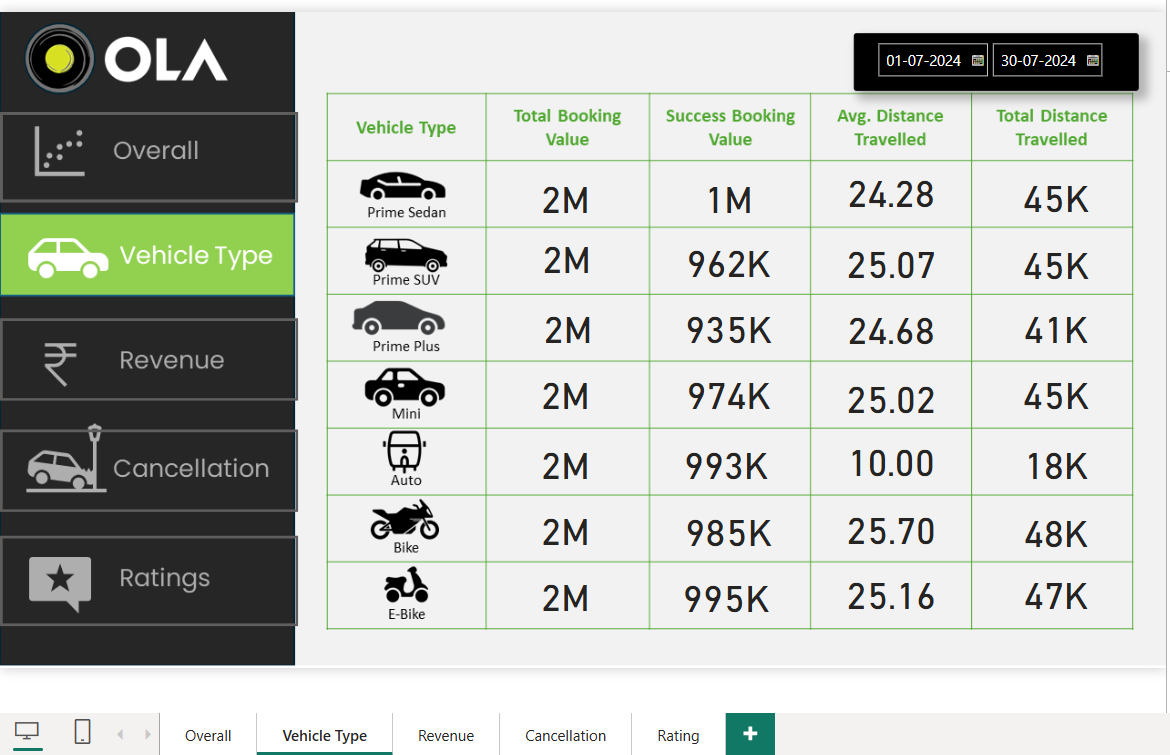

The dashboard page shown, as its layout file describes it:
{"tool":"powerbi","page":{"name":"Vehicle Type","canvas":[1280,720],"ordinal":1},"visuals":[{"type":"actionButton","box":[0,335.9,327.4,90.7],"z":0},{"type":"actionButton","box":[0,457.8,327.4,90.7],"z":1000},{"type":"actionButton","box":[0,109.1,327.4,99.2],"z":2000},{"type":"actionButton","box":[0,109.1,327.4,99.2],"z":3000},{"type":"actionButton","box":[0,575.4,327.4,99.2],"z":4000},{"type":"card","title":" Total  Bookings","fields":{"Values":["Sum(Booking.Booking_Value)"]},"box":[709.4,166,181.1,72.7],"z":5000},{"type":"card","title":" Total  Bookings","fields":{"Values":["Sum(Booking.Booking_Value)"]},"box":[536.5,231.9,171.5,71.4],"z":6000},{"type":"card","title":" Total  Bookings","fields":{"Values":["Sum(Booking.Booking_Value)"]},"box":[537.9,308.7,171.5,72.7],"z":7000},{"type":"card","title":" Total  Bookings","fields":{"Values":["Sum(Booking.Booking_Value)"]},"box":[535.2,381.5,171.5,72.7],"z":8000},{"type":"card","title":" Total  Bookings","fields":{"Values":["Sum(Booking.Booking_Value)"]},"box":[535.2,458.3,171.5,72.7],"z":9000},{"type":"card","title":" Total  Bookings","fields":{"Values":["Sum(Booking.Booking_Value)"]},"box":[535.2,531,171.5,71.4],"z":10000},{"type":"card","title":" Total  Bookings","fields":{"Values":["Sum(Booking.Booking_Value)"]},"box":[535.2,602.4,171.5,72.7],"z":11000},{"type":"card","title":" Total  Bookings","fields":{"Values":["Sum(Booking.Booking_Value)"]},"box":[535.2,166,171.5,71.4],"z":12000},{"type":"card","title":" Total  Bookings","fields":{"Values":["Sum(Booking.Booking_Value)"]},"box":[709.4,236,181.1,72.7],"z":13000},{"type":"card","title":" Total  Bookings","fields":{"Values":["Sum(Booking.Booking_Value)"]},"box":[709.4,308.7,181.1,72.7],"z":14000},{"type":"card","title":" Total  Bookings","fields":{"Values":["Sum(Booking.Booking_Value)"]},"box":[709.4,381.5,181.1,72.7],"z":15000},{"type":"card","title":" Total  Bookings","fields":{"Values":["Sum(Booking.Booking_Value)"]},"box":[706.7,458.3,181.1,72.7],"z":16000},{"type":"card","title":" Total  Bookings","fields":{"Values":["Sum(Booking.Booking_Value)"]},"box":[709.4,531,181.1,72.7],"z":17000},{"type":"card","title":" Total  Bookings","fields":{"Values":["Sum(Booking.Booking_Value)"]},"box":[706.7,603.8,181.1,72.7],"z":18000},{"type":"card","title":" Total  Bookings","fields":{"Values":["Avg(Booking.Ride_Distance)"]},"box":[887.8,159.2,181.1,72.7],"z":19000},{"type":"card","title":" Total  Bookings","fields":{"Values":["Avg(Booking.Ride_Distance)"]},"box":[887.8,237.4,181.1,72.7],"z":20000},{"type":"card","title":" Total  Bookings","fields":{"Values":["Avg(Booking.Ride_Distance)"]},"box":[887.8,310.1,181.1,72.7],"z":21000},{"type":"card","title":" Total  Bookings","fields":{"Values":["Avg(Booking.Ride_Distance)"]},"box":[887.8,385.6,181.1,72.7],"z":22000},{"type":"card","title":" Total  Bookings","fields":{"Values":["Avg(Booking.Ride_Distance)"]},"box":[887.8,454.2,181.1,72.7],"z":23000},{"type":"card","title":" Total  Bookings","fields":{"Values":["Avg(Booking.Ride_Distance)"]},"box":[887.8,529.7,181.1,72.7],"z":24000},{"type":"card","title":" Total  Bookings","fields":{"Values":["Avg(Booking.Ride_Distance)"]},"box":[887.8,601,181.1,72.7],"z":25000},{"type":"card","title":" Total  Bookings","fields":{"Values":["Sum(Booking.Ride_Distance)"]},"box":[1069,164.7,181.1,72.7],"z":26000},{"type":"card","title":" Total  Bookings","fields":{"Values":["Sum(Booking.Ride_Distance)"]},"box":[1069,238.8,181.1,72.7],"z":27000},{"type":"card","title":" Total  Bookings","fields":{"Values":["Sum(Booking.Ride_Distance)"]},"box":[1069,308.7,181.1,72.7],"z":28000},{"type":"card","title":" Total  Bookings","fields":{"Values":["Sum(Booking.Ride_Distance)"]},"box":[1069,381.5,181.1,72.7],"z":29000},{"type":"card","title":" Total  Bookings","fields":{"Values":["Sum(Booking.Ride_Distance)"]},"box":[1069,458.3,181.1,72.7],"z":30000},{"type":"card","title":" Total  Bookings","fields":{"Values":["Sum(Booking.Ride_Distance)"]},"box":[1069,532.4,181.1,72.7],"z":31000},{"type":"card","title":" Total  Bookings","fields":{"Values":["Sum(Booking.Ride_Distance)"]},"box":[1069,601,181.1,72.7],"z":32000},{"type":"slicer","title":"Date","fields":{"Values":["Booking.Date"]},"box":[937.2,23.3,312.9,63.1],"z":33000}]}

Visuals, with their boxes on the page's 1280x720 design canvas (x1, y1, x2, y2). These are canvas units, not pixel positions in the 1170x755 screenshot, which may show the page scaled, cropped or inside an application window:
actionButton: l=0, t=336, r=327, b=427
actionButton: l=0, t=458, r=327, b=548
actionButton: l=0, t=109, r=327, b=208
actionButton: l=0, t=109, r=327, b=208
actionButton: l=0, t=575, r=327, b=675
" Total  Bookings" card: l=709, t=166, r=890, b=239
" Total  Bookings" card: l=536, t=232, r=708, b=303
" Total  Bookings" card: l=538, t=309, r=709, b=381
" Total  Bookings" card: l=535, t=382, r=707, b=454
" Total  Bookings" card: l=535, t=458, r=707, b=531
" Total  Bookings" card: l=535, t=531, r=707, b=602
" Total  Bookings" card: l=535, t=602, r=707, b=675
" Total  Bookings" card: l=535, t=166, r=707, b=237
" Total  Bookings" card: l=709, t=236, r=890, b=309
" Total  Bookings" card: l=709, t=309, r=890, b=381
" Total  Bookings" card: l=709, t=382, r=890, b=454
" Total  Bookings" card: l=707, t=458, r=888, b=531
" Total  Bookings" card: l=709, t=531, r=890, b=604
" Total  Bookings" card: l=707, t=604, r=888, b=676
" Total  Bookings" card: l=888, t=159, r=1069, b=232
" Total  Bookings" card: l=888, t=237, r=1069, b=310
" Total  Bookings" card: l=888, t=310, r=1069, b=383
" Total  Bookings" card: l=888, t=386, r=1069, b=458
" Total  Bookings" card: l=888, t=454, r=1069, b=527
" Total  Bookings" card: l=888, t=530, r=1069, b=602
" Total  Bookings" card: l=888, t=601, r=1069, b=674
" Total  Bookings" card: l=1069, t=165, r=1250, b=237
" Total  Bookings" card: l=1069, t=239, r=1250, b=312
" Total  Bookings" card: l=1069, t=309, r=1250, b=381
" Total  Bookings" card: l=1069, t=382, r=1250, b=454
" Total  Bookings" card: l=1069, t=458, r=1250, b=531
" Total  Bookings" card: l=1069, t=532, r=1250, b=605
" Total  Bookings" card: l=1069, t=601, r=1250, b=674
"Date" slicer: l=937, t=23, r=1250, b=86
